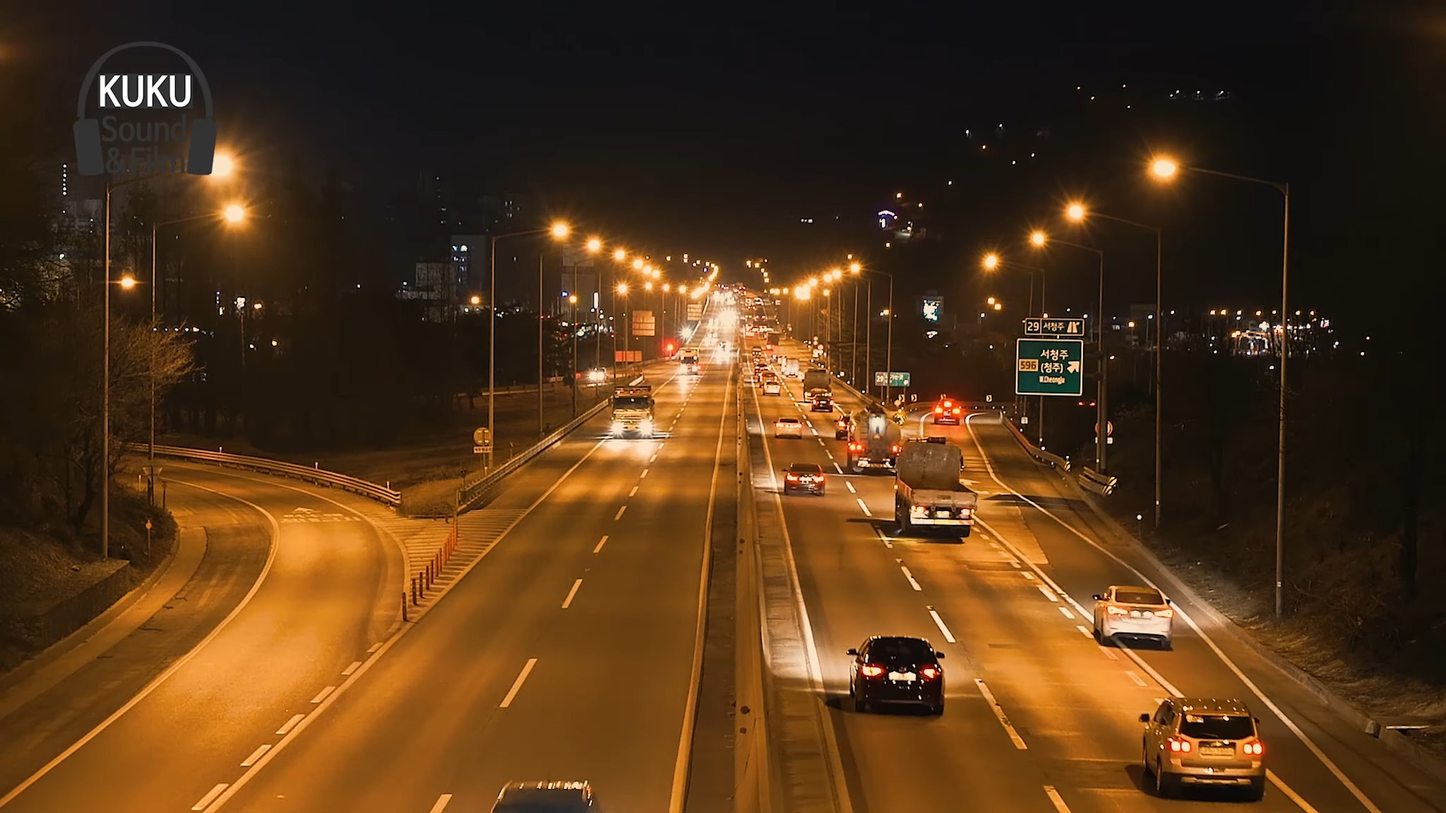car: (1142, 695, 1265, 799), (848, 634, 950, 717), (1095, 584, 1175, 648), (782, 466, 828, 495)
truck: (890, 434, 982, 543), (844, 406, 904, 476)
